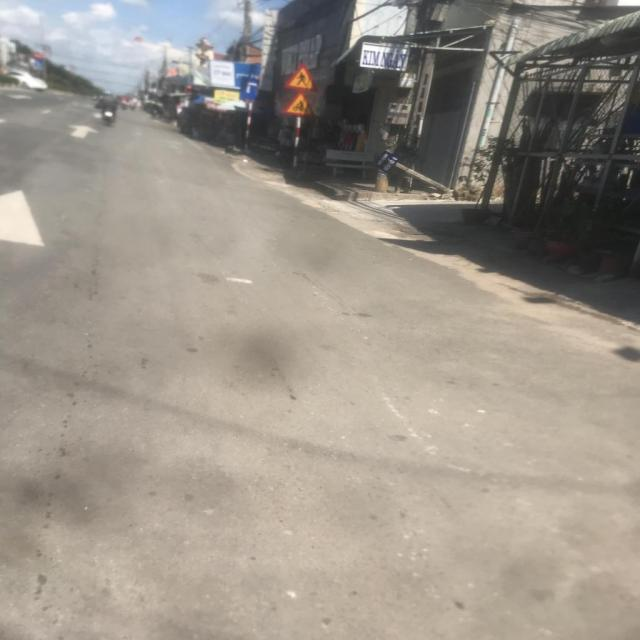cho_quay_xe: (240, 76, 259, 101)
chu_y_nguoi_di_bo_cat_ngang: (283, 61, 319, 93)
chu_y_nguoi_di_xe_dap_cat_ngang: (281, 89, 316, 117)
